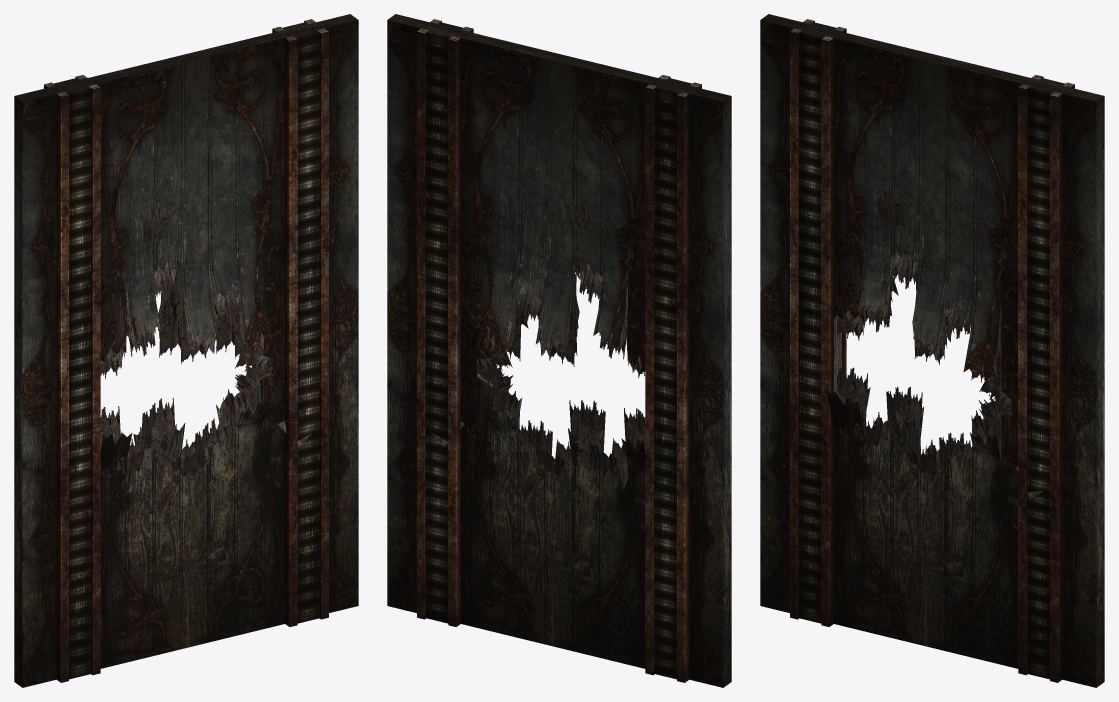
The model's file is wooden_slide_door_broken.dae.
3 renders of one model, left to right at view 1: azimuth 30°, elevation 25°; view 2: azimuth 150°, elevation 25°; view 3: azimuth 330°, elevation 25°, orthographic.
Parts seen in each view (by area): view 1: pCube3, polySurface75; view 2: pCube3, polySurface75; view 3: pCube3, polySurface75.
Boxes of the visible parts, x1,y1,x2,y2 form: pCube3: (14,14,358,687); polySurface75: (100,205,311,483); pCube3: (387,14,731,687); polySurface75: (431,203,645,489); pCube3: (760,14,1104,687); polySurface75: (836,188,1043,498).
Size of the model in its own units: 1.8 by 3 by 0.2848.
